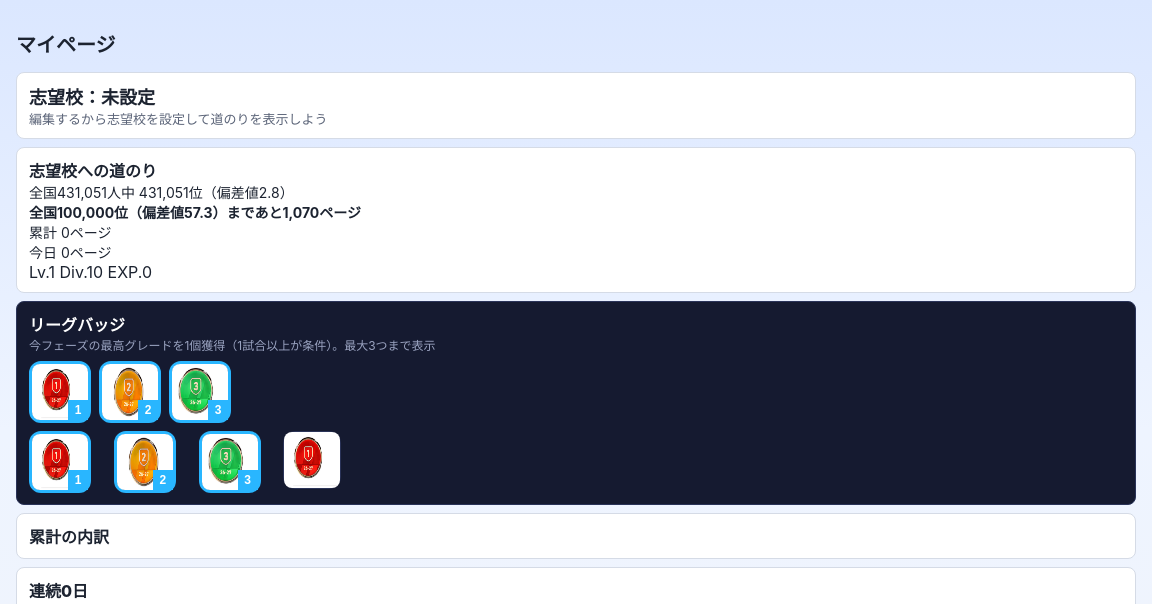
Test: MyPageScreen › リーグバッジ4つ目の装着はブロックされ警告が出る
Expected: the element with test id "league-badge-shelf" is shown, [16, 301, 1136, 505]
Click the 7th button with test id "league-badge".
click(312, 460)  # box [283, 431, 341, 489]
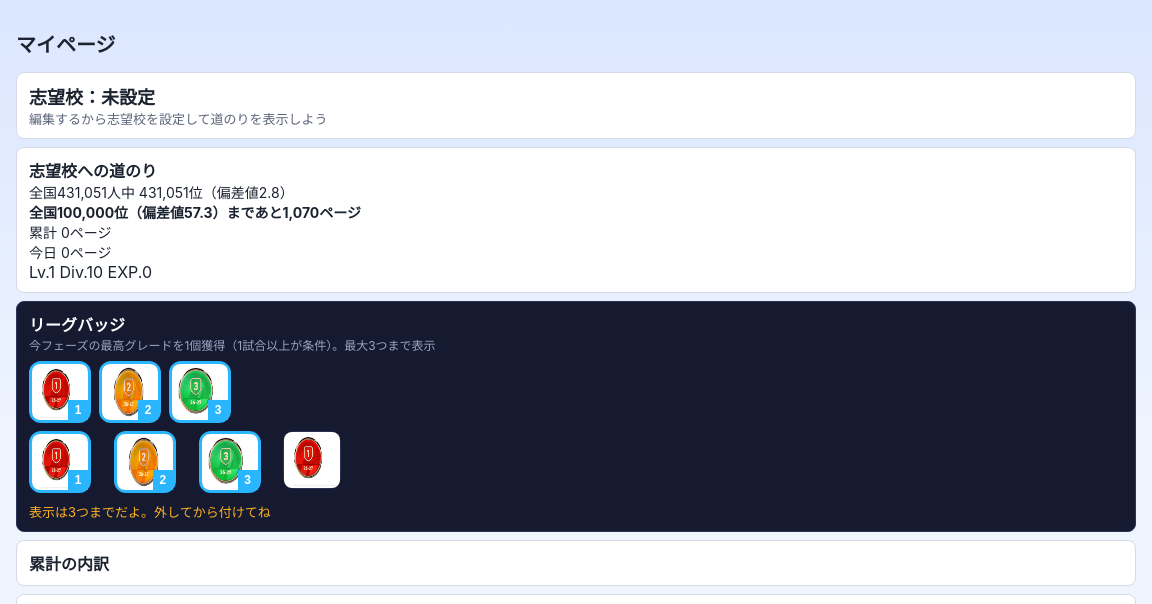
Now the text with test id "league-badge-limit" shows "3つまで", box [29, 504, 271, 520]
